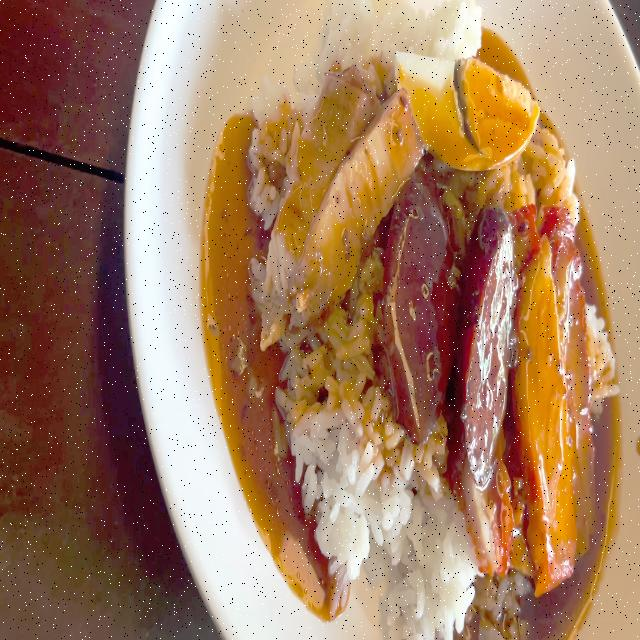boiled_egg: (398, 45, 537, 162)
chainese_sausage: (394, 190, 506, 450), (383, 202, 465, 420), (461, 218, 518, 472)
crispy_pork: (263, 66, 415, 320), (263, 62, 371, 316), (299, 116, 418, 312)
red_pork: (520, 220, 601, 588), (509, 240, 572, 582), (549, 242, 605, 576)
red_pork_and_crispy_pork: (240, 0, 622, 640)
rice: (288, 499, 466, 640), (291, 329, 378, 519), (321, 0, 481, 45)
